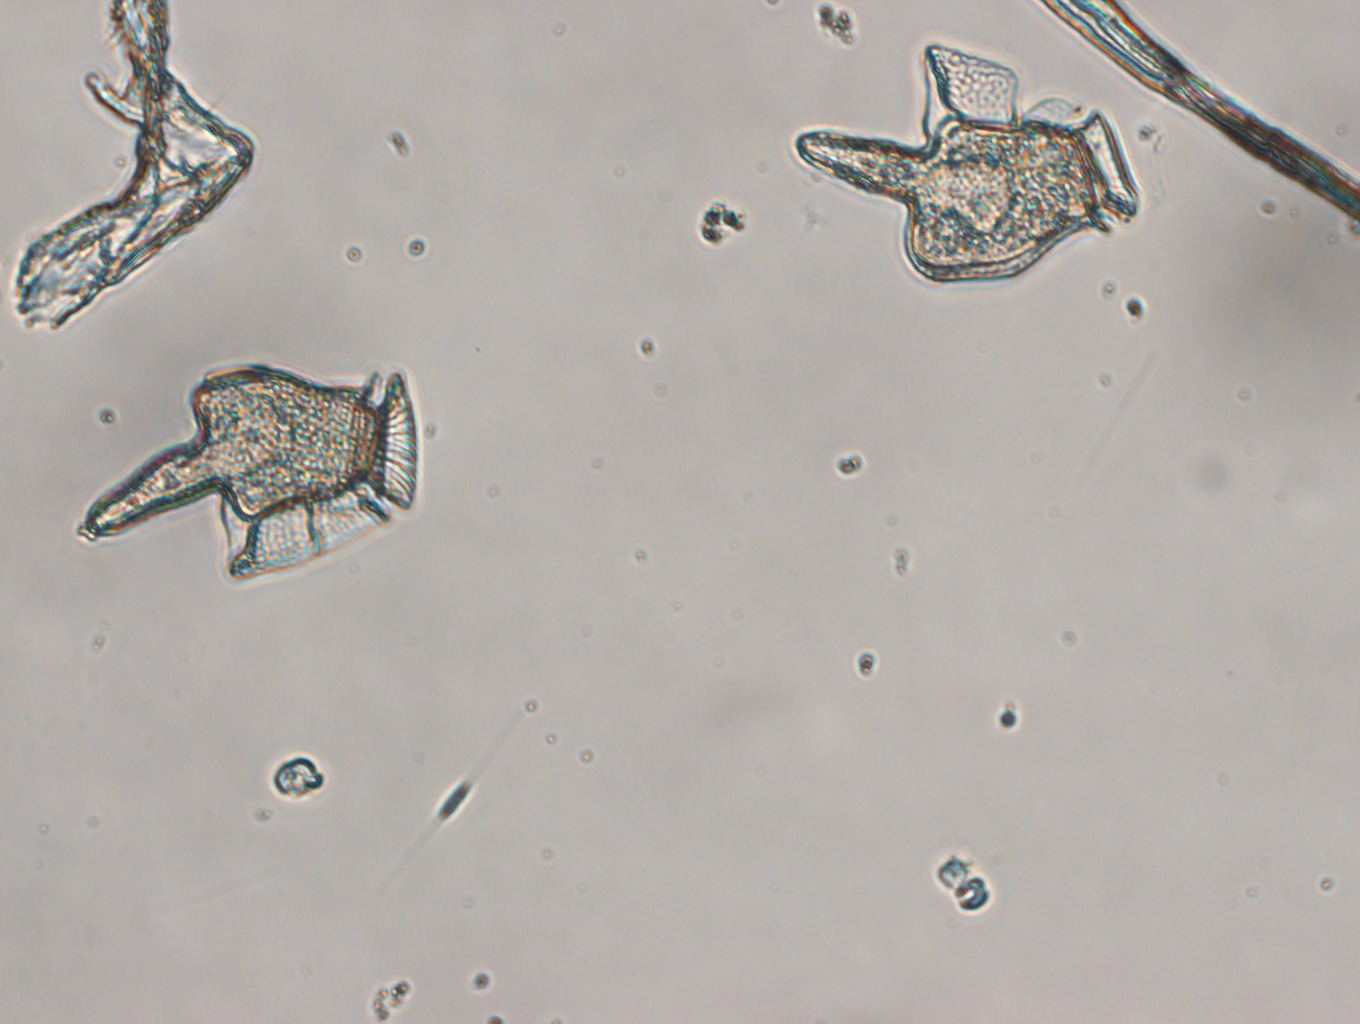dinophysis caudata: (790, 41, 1142, 286), (76, 362, 420, 587)
